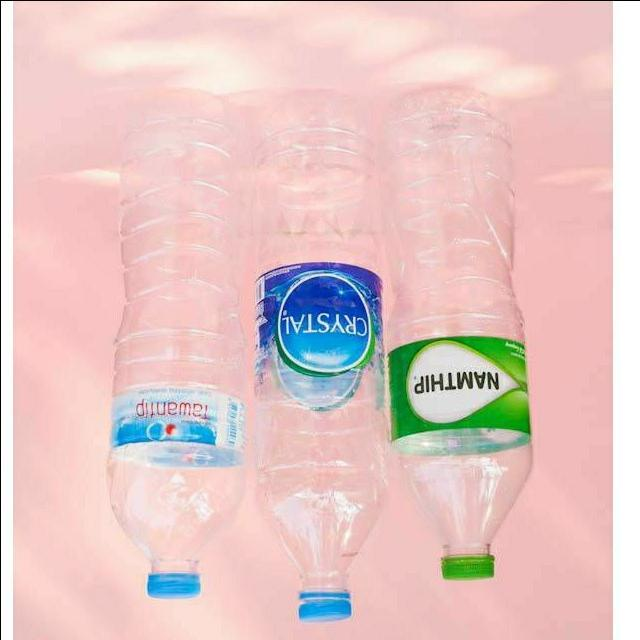PET Bottle: (74, 56, 258, 600), (374, 52, 554, 592), (242, 38, 404, 628)
